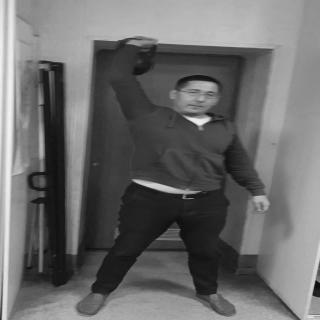kettlebell: (113, 37, 158, 77)
